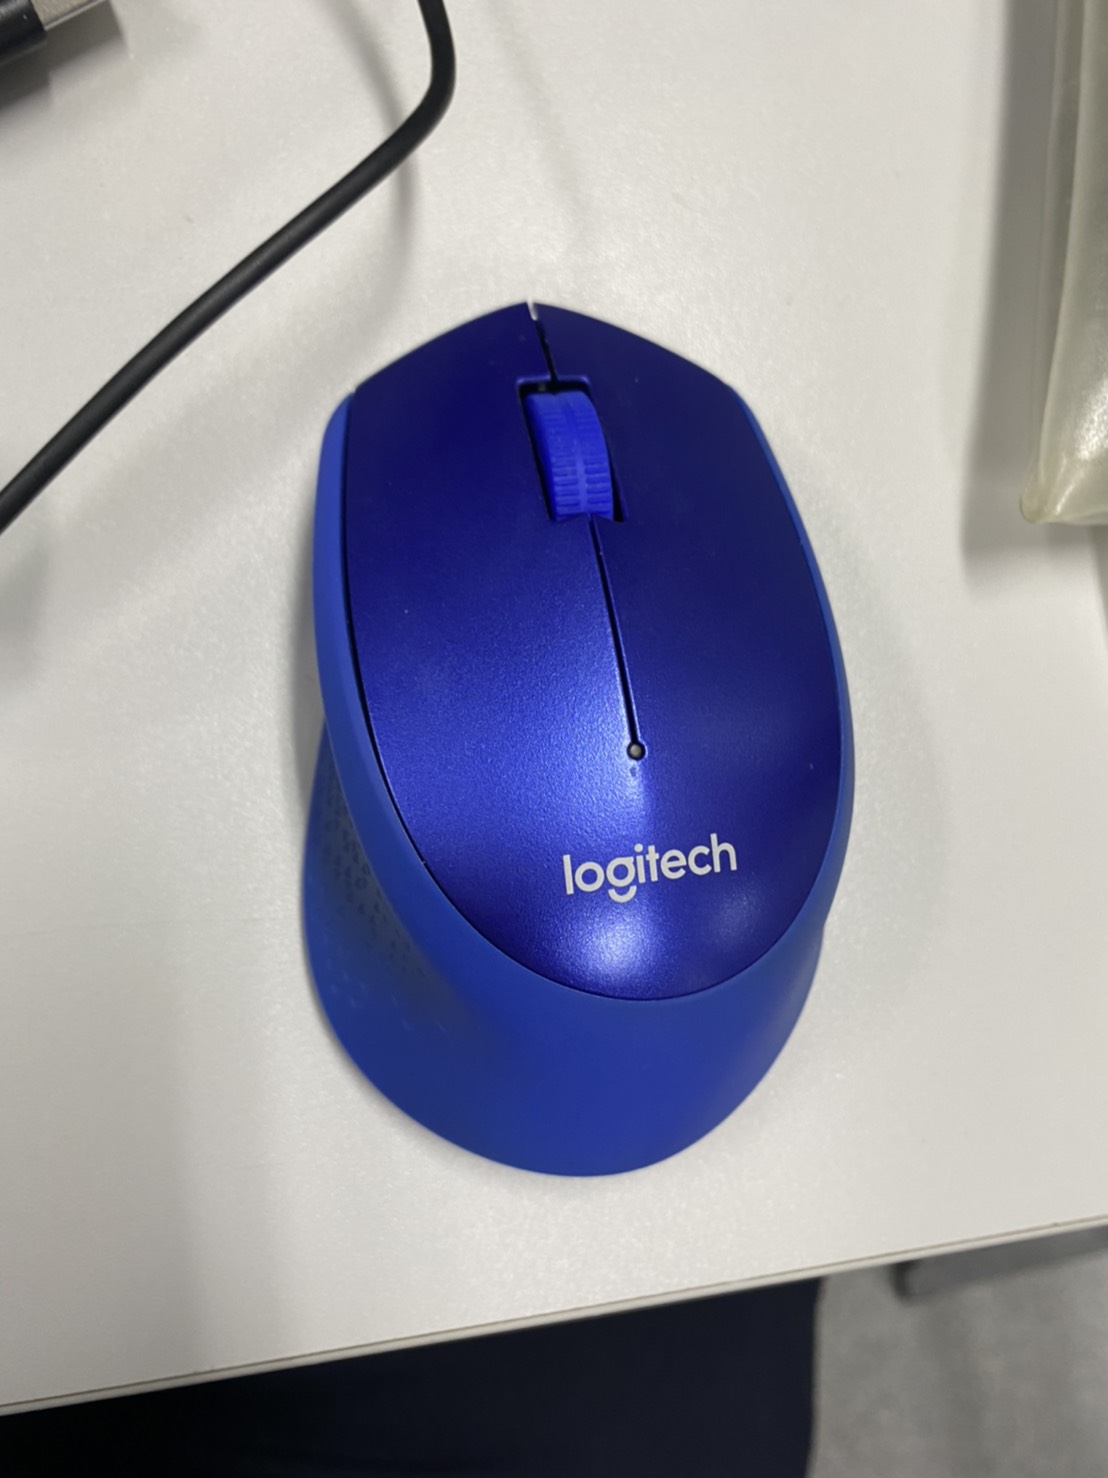mouse: (301, 307, 861, 1175)
